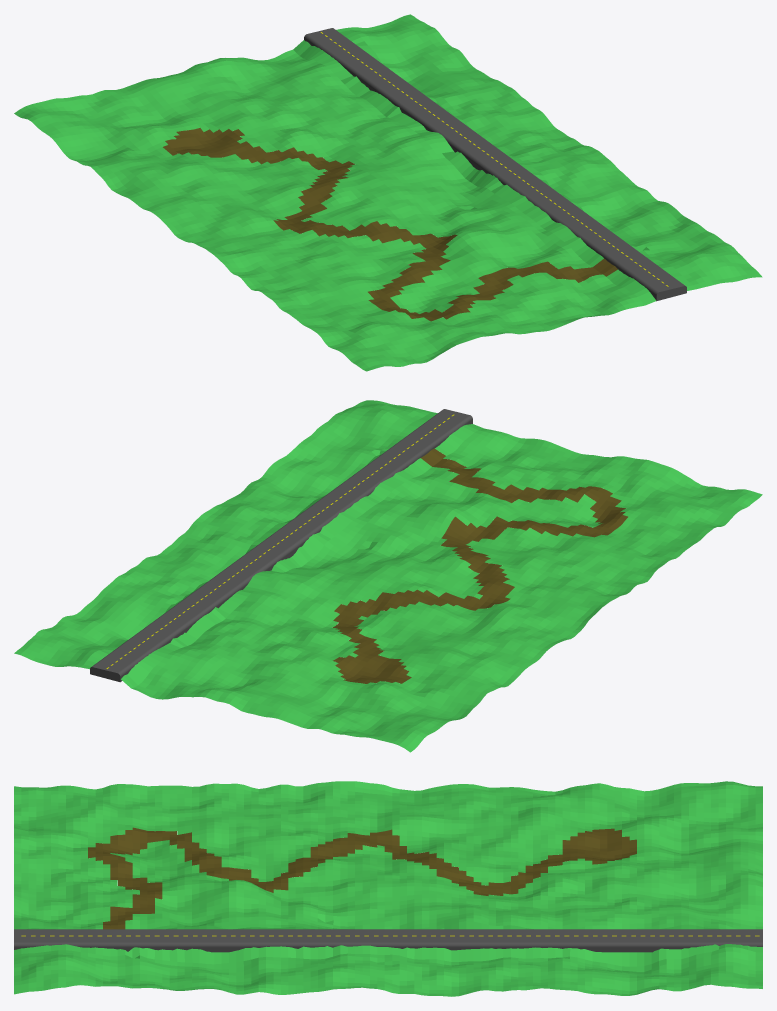
File: bottom.gltf
3 renders of one model, top to bottom at view 1: azimuth 30°, elevation 25°; view 2: azimuth 150°, elevation 25°; view 3: azimuth 270°, elevation 25°, orthographic. The views are drawn at different scales.
Visible parts, largest first — view 1: Plane, Plane.002, Plane.001; view 2: Plane, Plane.002, Plane.001; view 3: Plane, Plane.002, Plane.001.
Part boxes in pixels (x1,y1,x2,y2): Plane: (14,40,656,371); Plane.002: (336,14,762,290); Plane.001: (304,28,686,301); Plane: (121,424,762,752); Plane.002: (14,400,437,669); Plane.001: (90,409,472,682); Plane: (14,781,762,929); Plane.002: (14,944,762,996); Plane.001: (14,929,762,952).
Size of the model in its own units: 25.97 by 1.44 by 40.
